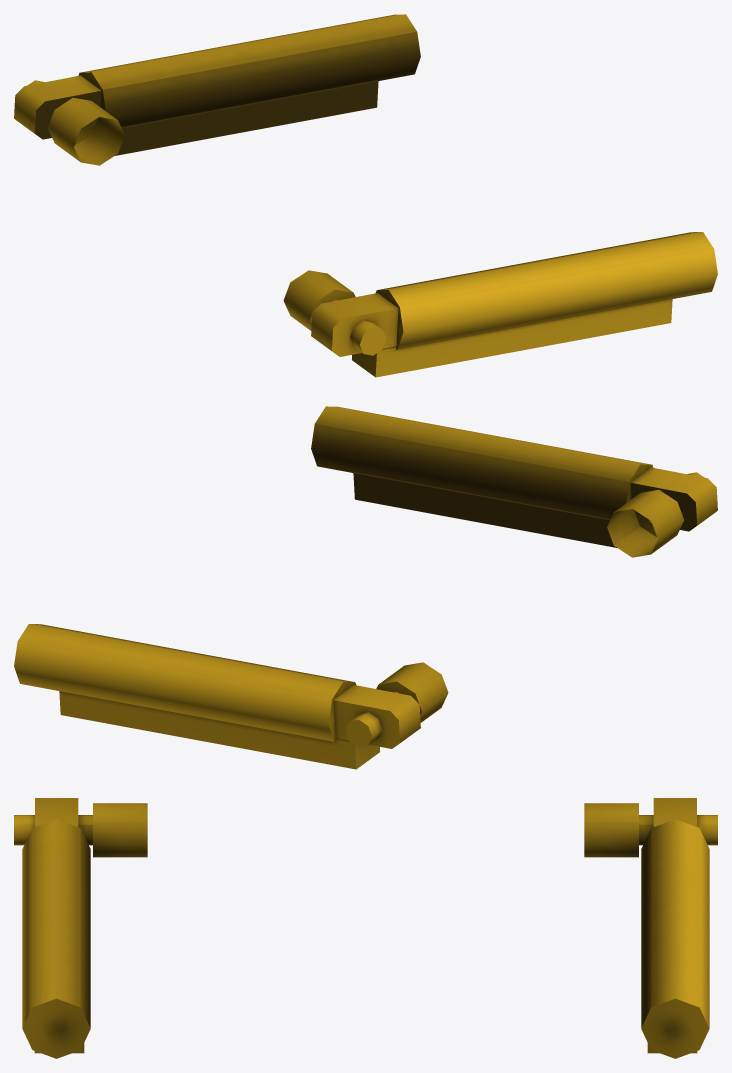
File: d37pxi24-blade-arm-cylinder.dae
3 renders of one model, top to bottom at view 1: azimuth 30°, elevation 25°; view 2: azimuth 150°, elevation 25°; view 3: azimuth 270°, elevation 25°, orthographic. The views are drawn at different scales.
Visible parts, largest first — view 1: d37pxi24-blade-arm-cylinder; view 2: d37pxi24-blade-arm-cylinder; view 3: d37pxi24-blade-arm-cylinder.
Part boxes in pixels (x1,y1,x2,y2): d37pxi24-blade-arm-cylinder: (14, 14, 717, 377); d37pxi24-blade-arm-cylinder: (14, 406, 717, 769); d37pxi24-blade-arm-cylinder: (14, 798, 717, 1058).
Size of the model in its own units: 0.6823 by 1.05 by 0.1569.
Materials: 1 (1 with a texture image).
